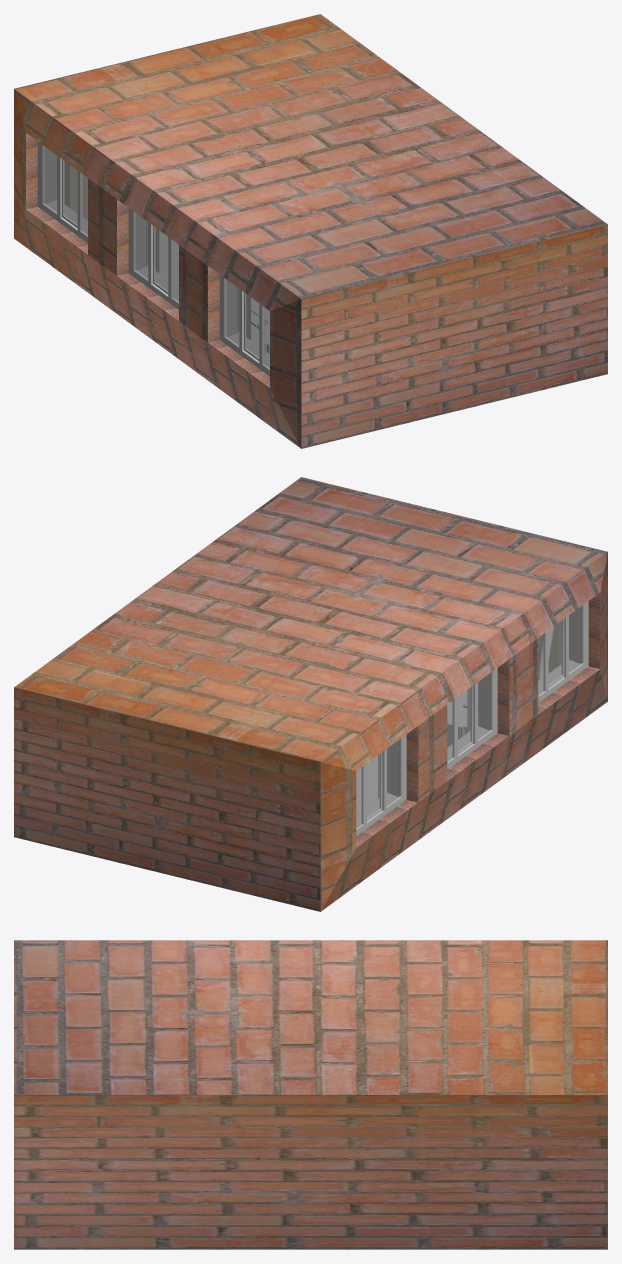
Rendered from room_final.FBX.
The picture shows the model from 3 angles, top to bottom: view 1: azimuth 30°, elevation 25°; view 2: azimuth 150°, elevation 25°; view 3: azimuth 270°, elevation 25°; orthographic projection. The views are drawn at different scales.
Visible parts, largest first — view 1: stena, room_steni, room_window02, room_window03, room_window01, glass002, glass001, glass, room_pol; view 2: stena, room_steni, room_window01, room_window03, room_window02, glass, glass001, glass002, room_pol; view 3: stena.
Part boxes in pixels (x1,y1,x2,y2): stena: (14,14,607,448); room_steni: (26,133,269,387); room_window02: (128,208,178,309); room_window03: (219,275,269,376); room_window01: (37,141,87,242); glass002: (43,146,87,235); glass001: (134,212,178,302); glass: (225,279,269,368); room_pol: (159,230,269,316); stena: (14,477,607,911); room_steni: (356,593,600,847); room_window01: (356,734,406,835); room_window03: (538,601,588,702); room_window02: (447,668,497,769); glass: (538,606,582,695); glass001: (447,672,491,762); glass002: (356,739,400,828); room_pol: (356,690,467,813); stena: (14,940,607,1249).
Size of the model in its own units: 4672 by 2100 by 7303.
